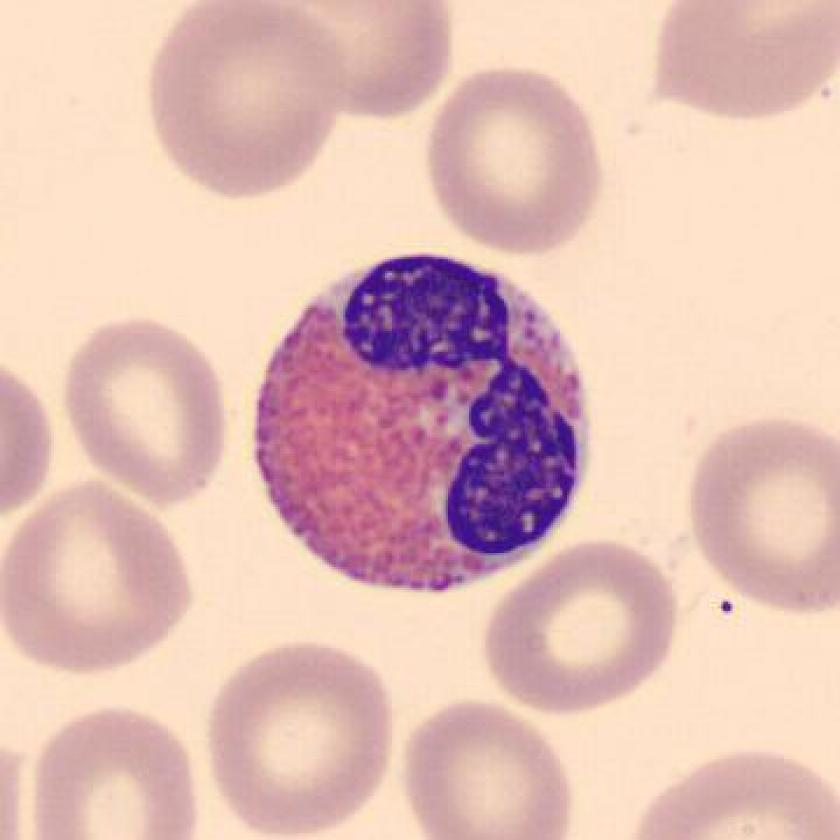eosinophil: (239, 244, 603, 607)
